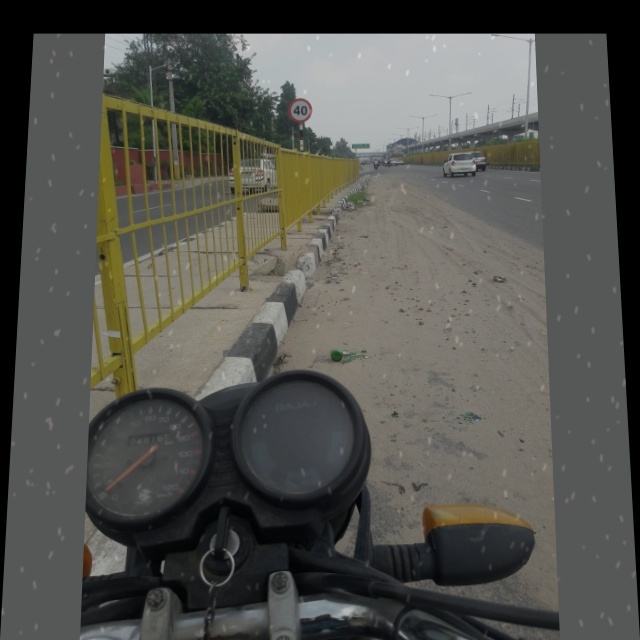Speed_Limit_40: (284, 95, 317, 125)
